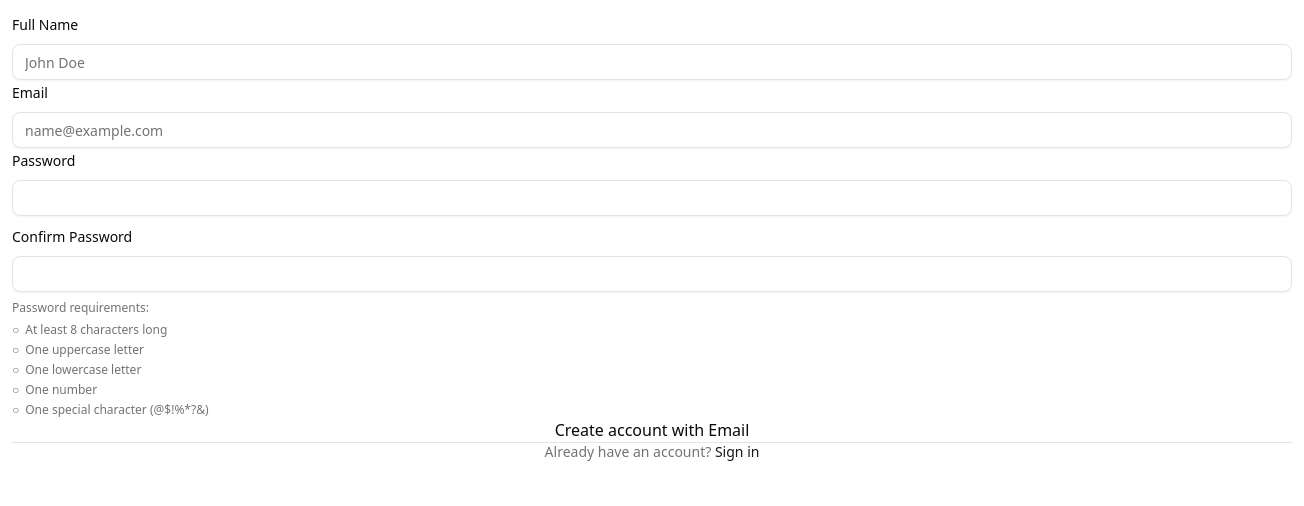
RegisterForm › validates password requirements
Test password that doesn't meet requirements
In the password field with test id "register-password-input": [652, 198] box [12,180,1292,216], type "weak"
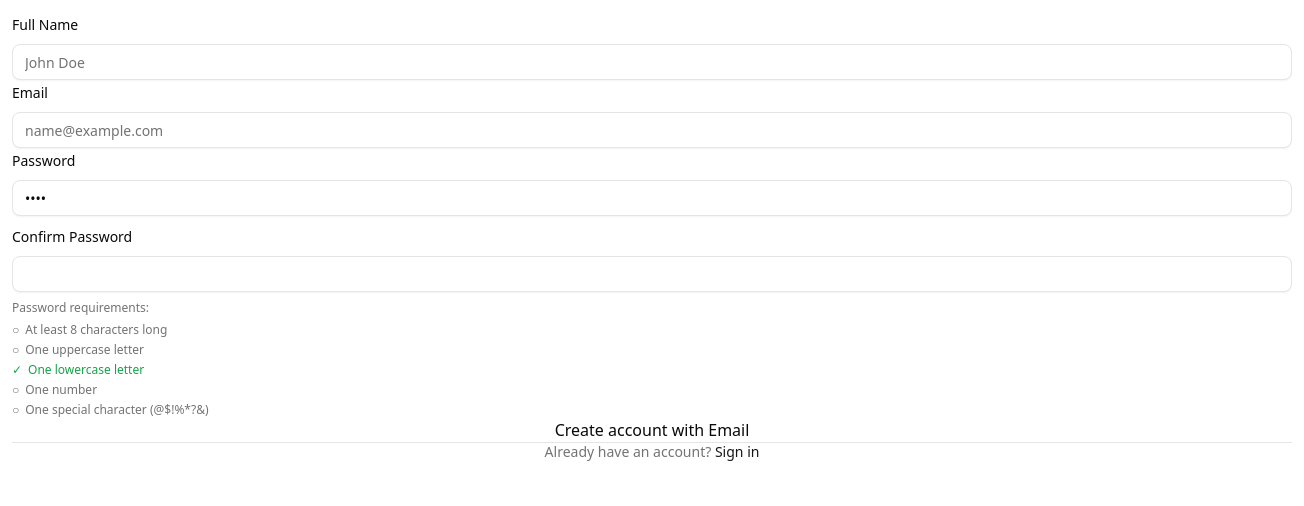
Leave the password field with test id "register-password-input", box [12,180,1292,216]
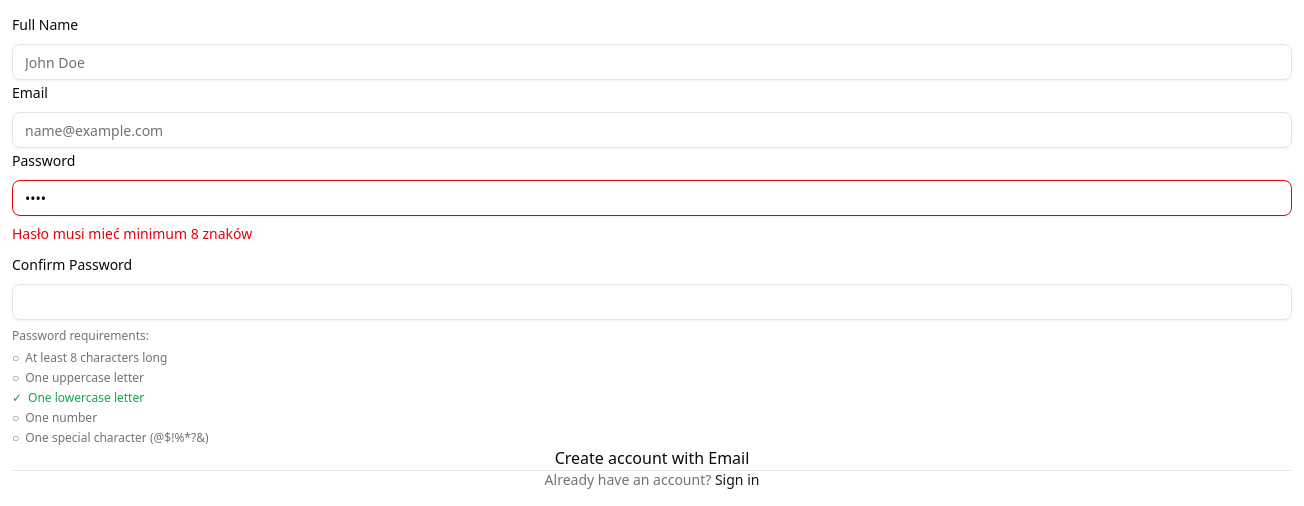
Expected: the list item "○ At least 8 characters long" is shown, [12,349,167,366]
Expected: the text "Hasło musi mieć minimum 8 znaków" is shown, [12,224,252,243]
Test valid password
In the password field with test id "register-password-input": [652, 198] box [12,180,1292,216], type "StrongP@ss123"
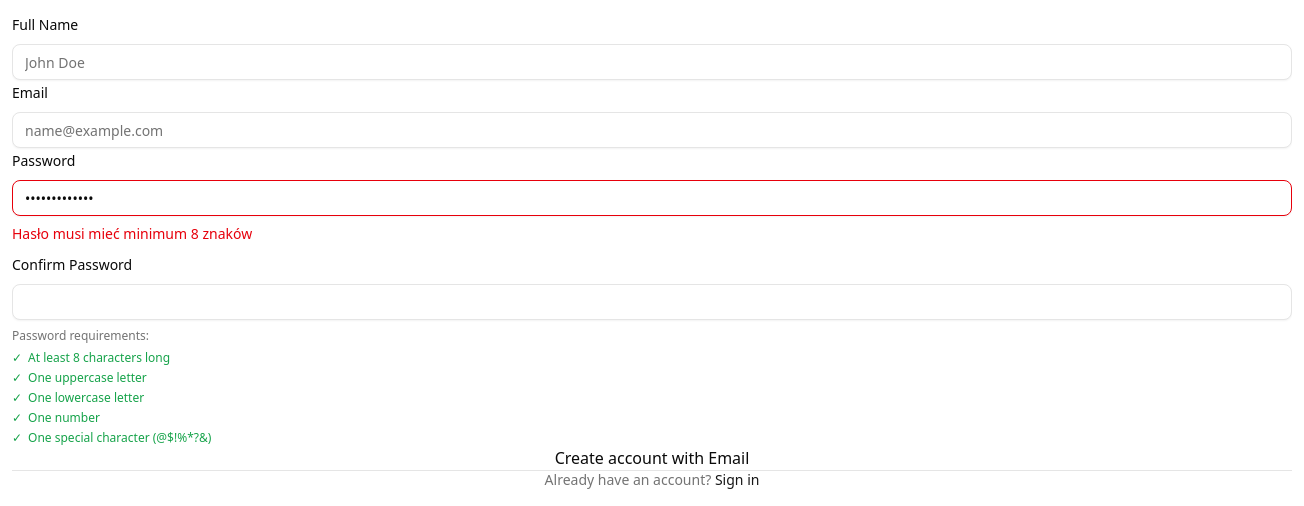
Leave the password field with test id "register-password-input", box [12,180,1292,216]
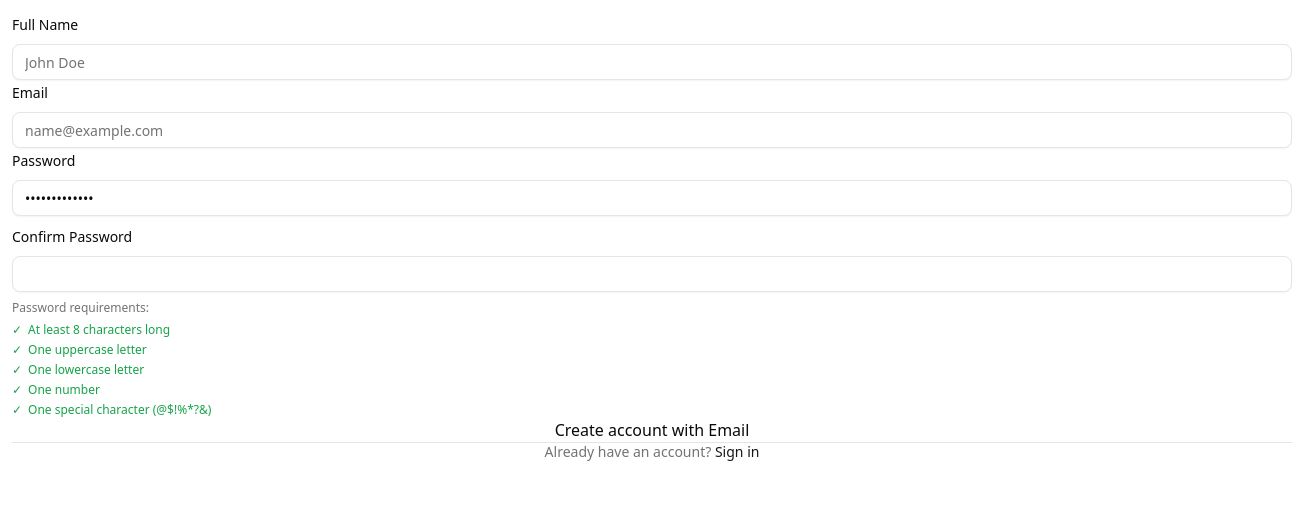
Expected: the text "Hasło musi mieć minimum 8 znaków" is gone
